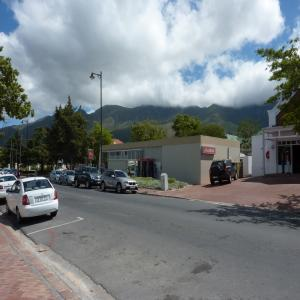Vehicle-registration-plate: (36, 196, 50, 203), (5, 186, 13, 190), (130, 187, 136, 190)
